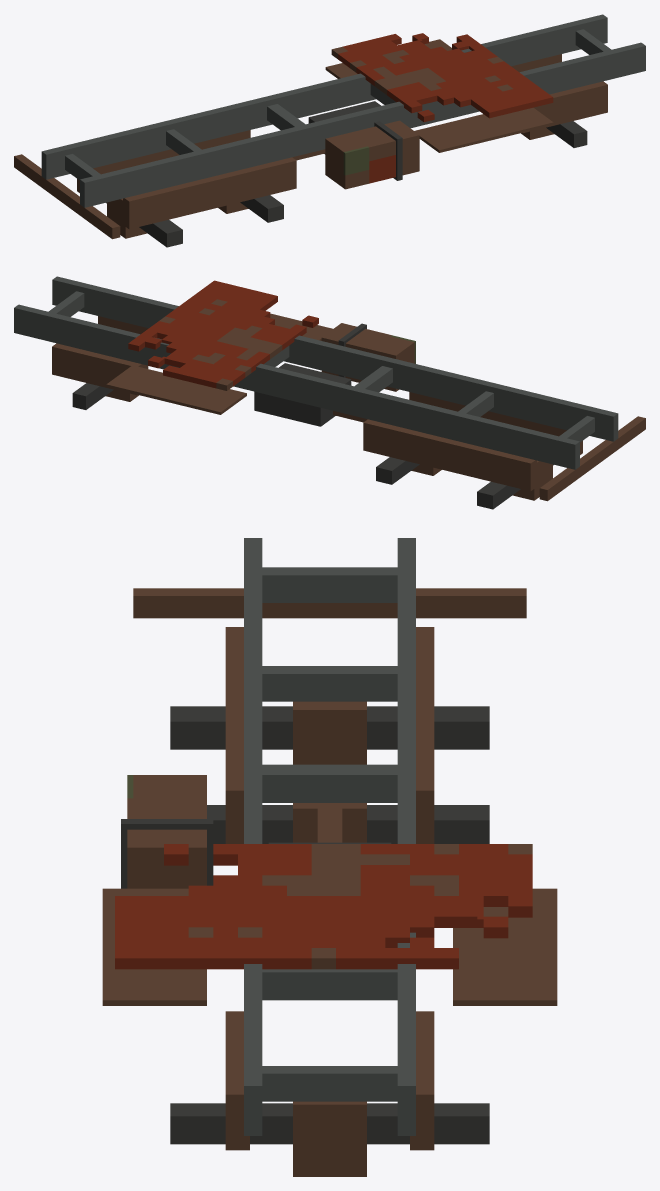
File: abandoned_army_truck_chassis.glb
3 renders of one model, top to bottom at view 1: azimuth 30°, elevation 25°; view 2: azimuth 150°, elevation 25°; view 3: azimuth 270°, elevation 25°, orthographic. The views are drawn at different scales.
Visible parts, largest first — view 1: body:compound; view 2: body:compound; view 3: body:compound.
Part boxes in pixels (bbox=[...]): body:compound: bbox=[14, 14, 645, 247]; body:compound: bbox=[14, 276, 645, 509]; body:compound: bbox=[102, 538, 557, 1176].
Bounding box in the file's own units: 6.59 × 0.9062 × 2.31.
